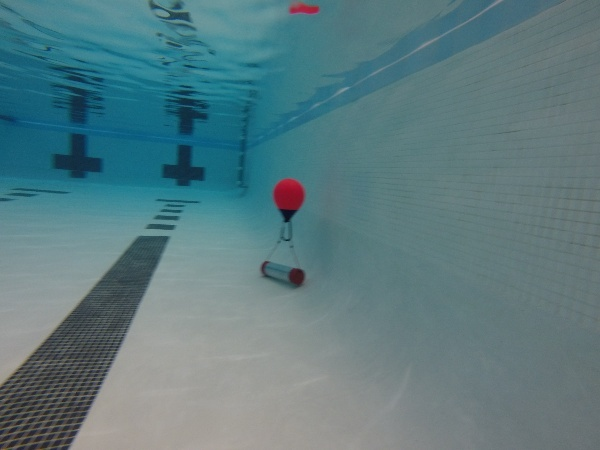buoy_red: (268, 179, 306, 223)
